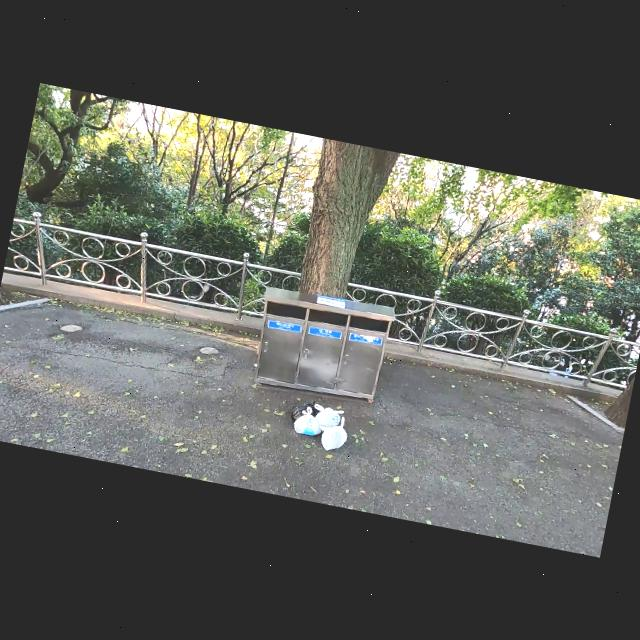trash: (292, 404, 326, 438), (315, 423, 350, 454), (312, 403, 344, 430), (290, 399, 320, 427)
